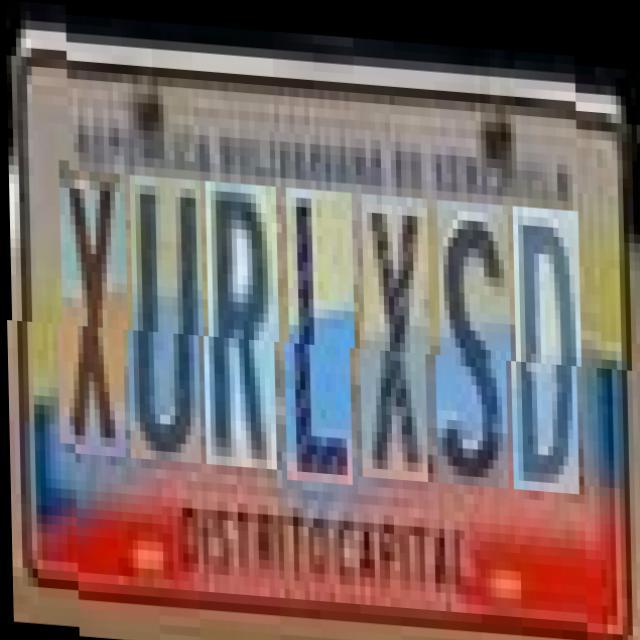D: (512, 197, 582, 485)
L: (285, 182, 356, 480)
R: (205, 178, 280, 466)
S: (436, 192, 512, 480)
U: (130, 173, 204, 461)
X: (58, 168, 128, 456), (361, 188, 431, 476)
